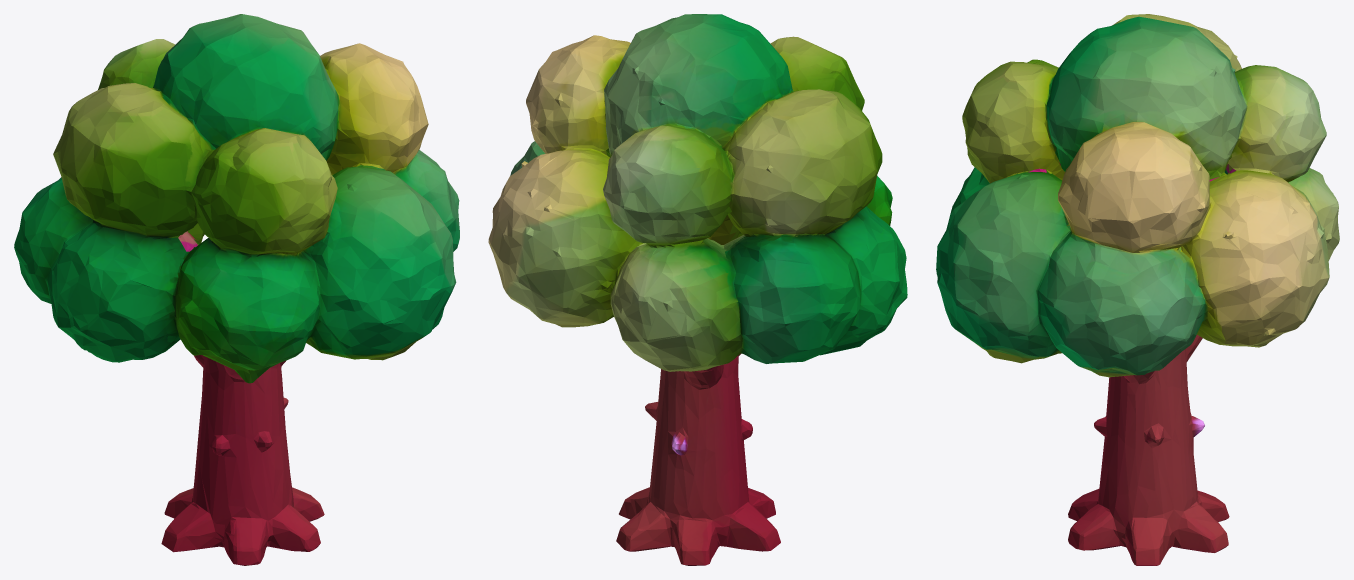
File: arbol_02.glb
3 views of the same model, side by side, from view 1: azimuth 30°, elevation 25°; view 2: azimuth 150°, elevation 25°; view 3: azimuth 270°, elevation 25° (orthographic).
Parts seen in each view (by area): view 1: arbol_02; view 2: arbol_02; view 3: arbol_02.
Part boxes in pixels (bbox=[...]): arbol_02: bbox=[14, 14, 459, 565]; arbol_02: bbox=[488, 14, 907, 565]; arbol_02: bbox=[936, 14, 1339, 565].
Bounding box in the file's own units: 1.56 × 1.97 × 1.43.
1 material, 1 textured.
